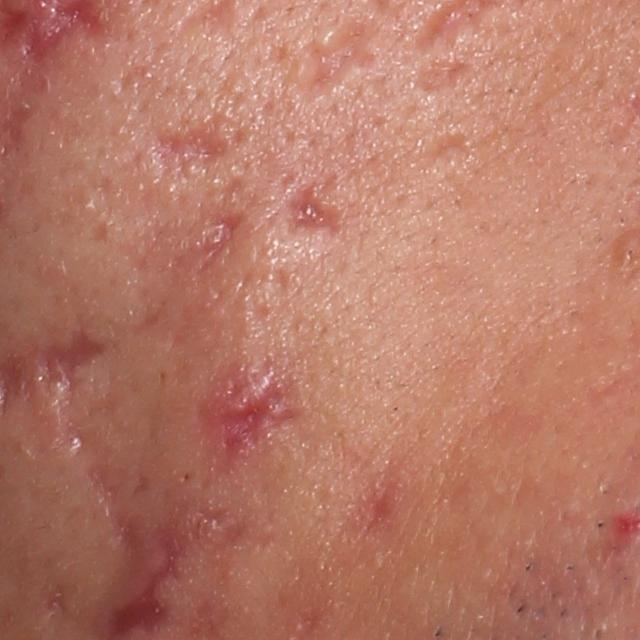atrophic_scar: (106, 490, 226, 639), (208, 370, 310, 465), (297, 10, 383, 101), (150, 113, 239, 172), (196, 208, 250, 278), (286, 177, 347, 236), (81, 462, 129, 517), (415, 58, 476, 93), (423, 133, 472, 169)
hypertrophic_scar: (313, 18, 344, 53)
